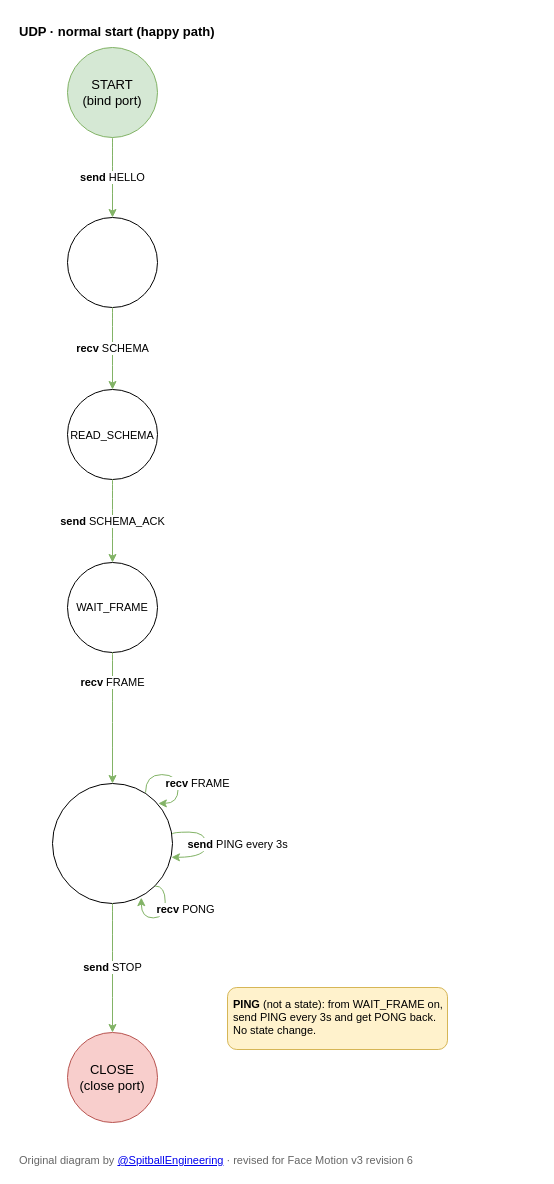
Some shapes in this 554 by 1184 pixel diagram are drawn without their labels. Here are the shapes that lost their labels. From the top down, the centre of each, then its label:
At point 112,262: "WAIT_SCHEMA".
At point 112,843: "STREAMING".
